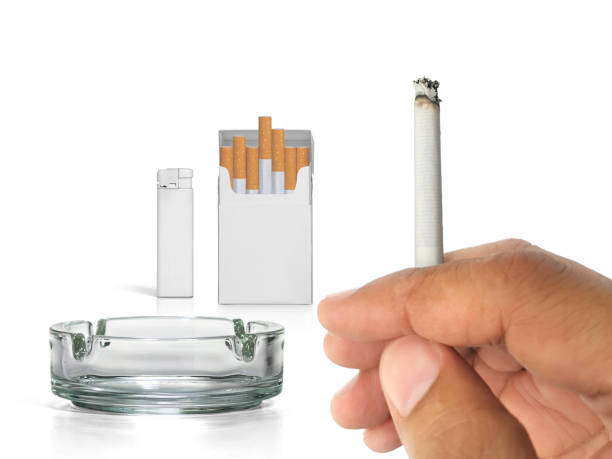cigarette: (219, 128, 315, 303), (411, 67, 442, 268), (258, 116, 272, 194), (272, 128, 285, 195), (233, 135, 247, 195), (246, 145, 260, 196), (220, 145, 234, 191), (286, 145, 296, 193), (296, 145, 310, 175)
